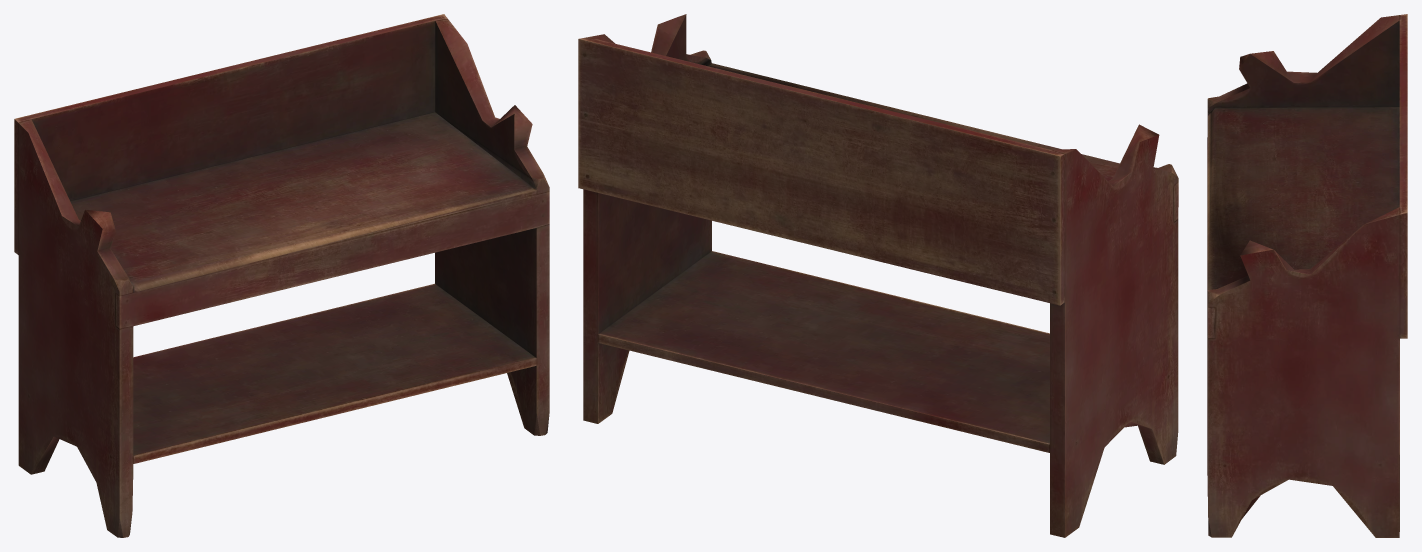
Rendered from bench-lod.glb.
The picture shows the model from 3 angles, left to right: view 1: azimuth 30°, elevation 25°; view 2: azimuth 150°, elevation 25°; view 3: azimuth 270°, elevation 25°; orthographic projection. The views are drawn at different scales.
Visible parts, largest first — view 1: painted_wooden_bench; view 2: painted_wooden_bench; view 3: painted_wooden_bench.
Part boxes in pixels (<box>): painted_wooden_bench: <box>14,14,549,537</box>; painted_wooden_bench: <box>578,14,1178,537</box>; painted_wooden_bench: <box>1207,14,1407,537</box>.
Bounding box in the file's own units: 1.16 × 0.8894 × 0.4965.
1 material, 1 textured.
